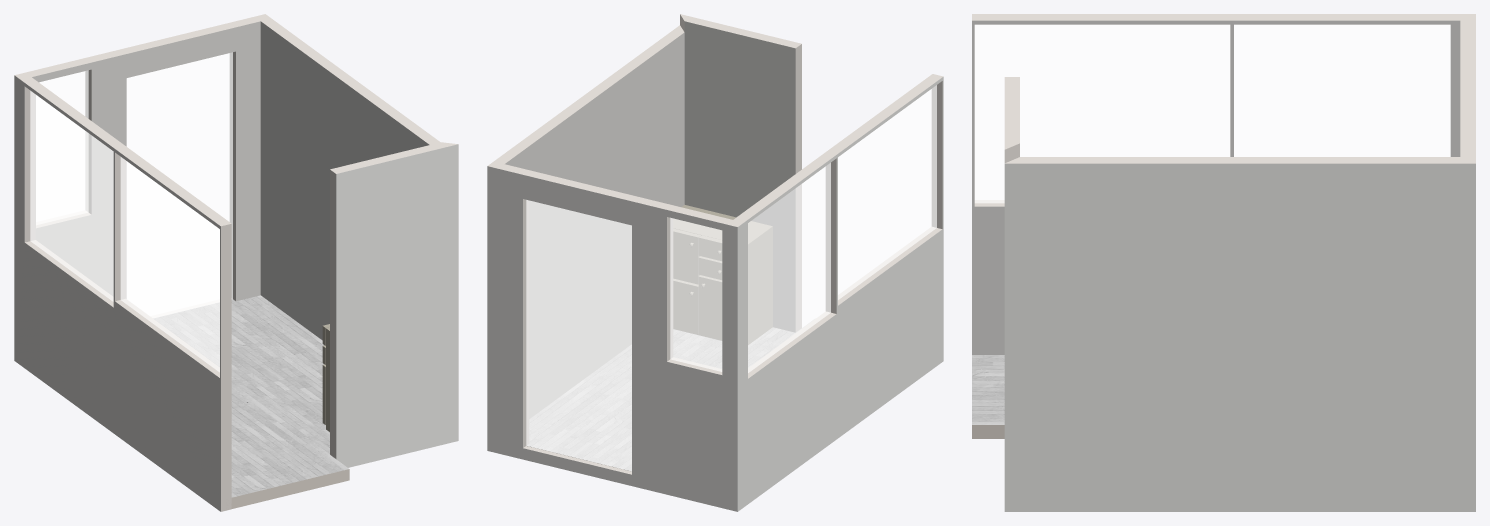
Rendered from UpperLibraryModel.glb.
The picture shows the model from 3 angles, left to right: view 1: azimuth 30°, elevation 25°; view 2: azimuth 150°, elevation 25°; view 3: azimuth 270°, elevation 25°; orthographic projection. The views are drawn at different scales.
Visible parts, largest first — view 1: wall_1, wall_2, wall_4, floor_Other, wall_10, window_2, window_5, door_0, door_2, window_1, window_4, wall_9 (+9 smaller); view 2: wall_3, wall_4, wall_2, door_0, door_2, wall_6, window_2, window_5, window_1, window_4, floor_Other, storage_cabinet_mid20 (+7 smaller); view 3: wall_0, window_2, window_5, window_1, window_4, wall_8, wall_9, wall_5, floor_Other, wall_11, wall_7.
Boxes of the visible parts, x1,y1,x2,y2 form: wall_1: (336, 144, 458, 467); wall_2: (14, 75, 220, 511); wall_4: (260, 21, 429, 340); floor_Other: (153, 295, 348, 497); wall_10: (32, 21, 260, 301); window_2: (121, 157, 219, 371); window_5: (121, 157, 219, 371); door_0: (127, 52, 232, 298); door_2: (127, 52, 232, 298); window_1: (30, 91, 113, 301); window_4: (30, 91, 113, 301); wall_9: (15, 75, 231, 511); wall_3: (487, 166, 737, 511); wall_4: (505, 32, 684, 418); wall_2: (737, 77, 943, 511); door_0: (526, 200, 631, 470); door_2: (526, 200, 631, 470); wall_6: (684, 21, 795, 332); window_2: (838, 85, 936, 299); window_5: (838, 85, 936, 299); window_1: (748, 163, 830, 372); window_4: (748, 163, 830, 372); floor_Other: (526, 319, 814, 471); storage_cabinet_mid20: (673, 205, 772, 344); wall_0: (1004, 163, 1475, 511); window_2: (975, 25, 1229, 202); window_5: (975, 25, 1229, 202); window_1: (1234, 25, 1450, 156); window_4: (1234, 25, 1450, 156); wall_8: (972, 20, 1460, 354); wall_9: (972, 14, 1475, 206); wall_5: (1005, 157, 1475, 163); floor_Other: (972, 355, 1004, 424); wall_11: (1460, 14, 1475, 163); wall_7: (1004, 77, 1019, 149).
Bounding box in the file's own units: 2.29 × 2.59 × 3.27.
13 materials, 1 textured.
